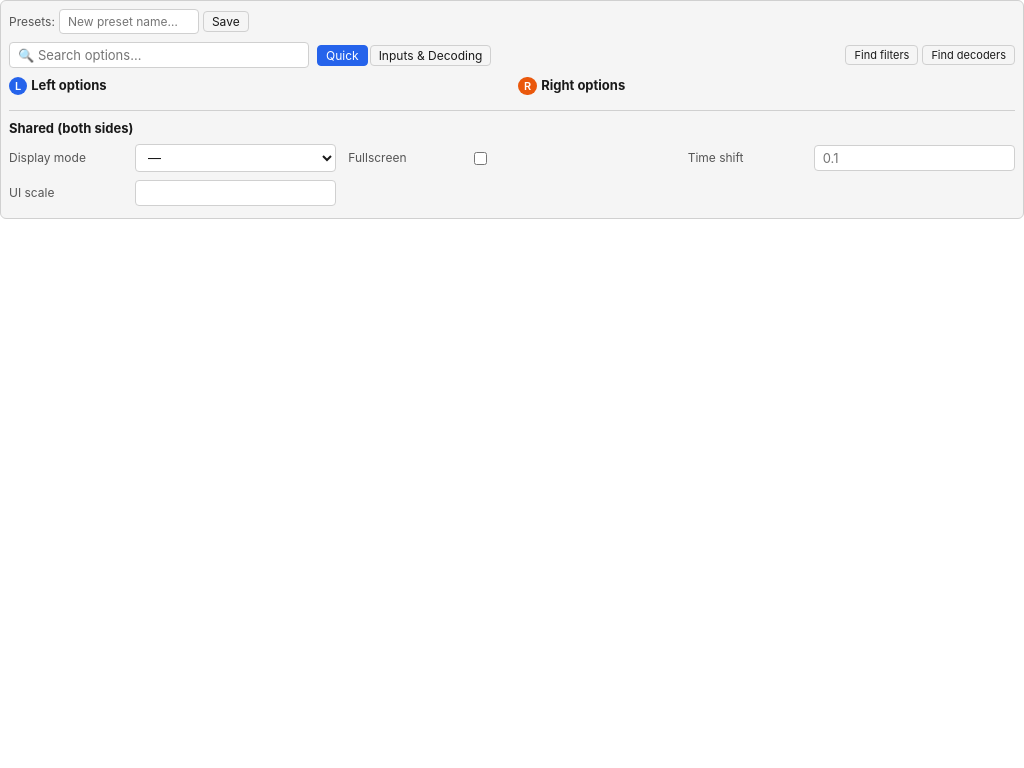
it: OptionsForm › find helper surfaces errors as text
Click the button "Find decoders".
click(969, 55)  # box left=922, top=45, right=1015, bottom=65
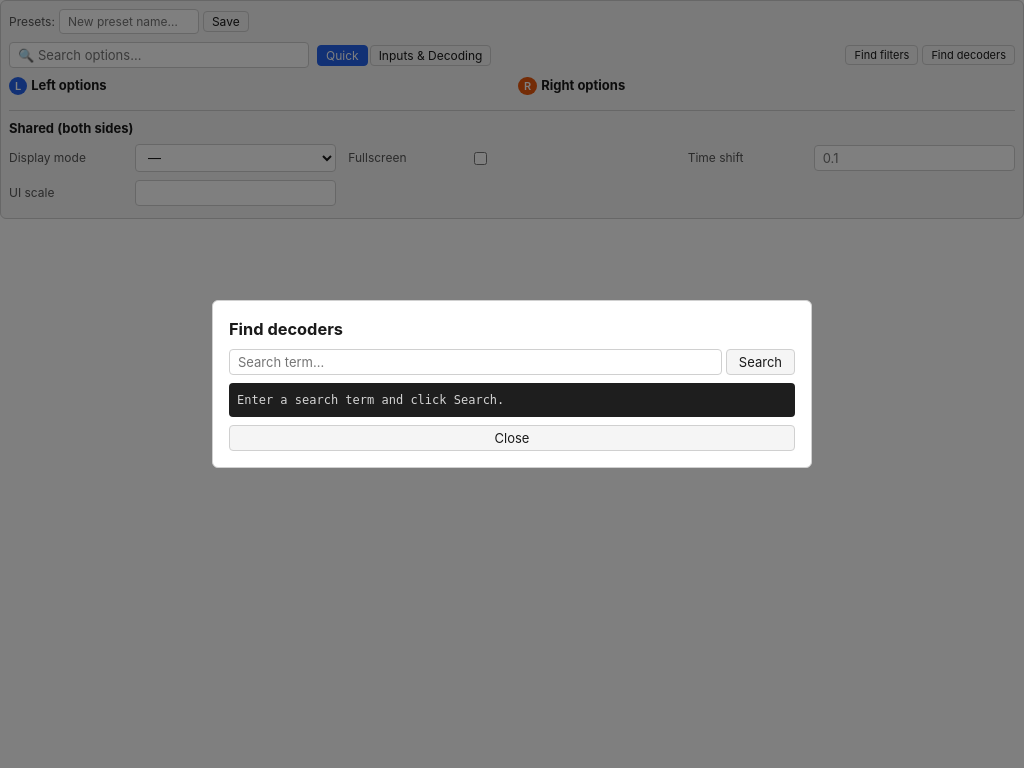
Click the button "Search".
click(760, 362)  # box left=726, top=349, right=795, bottom=375
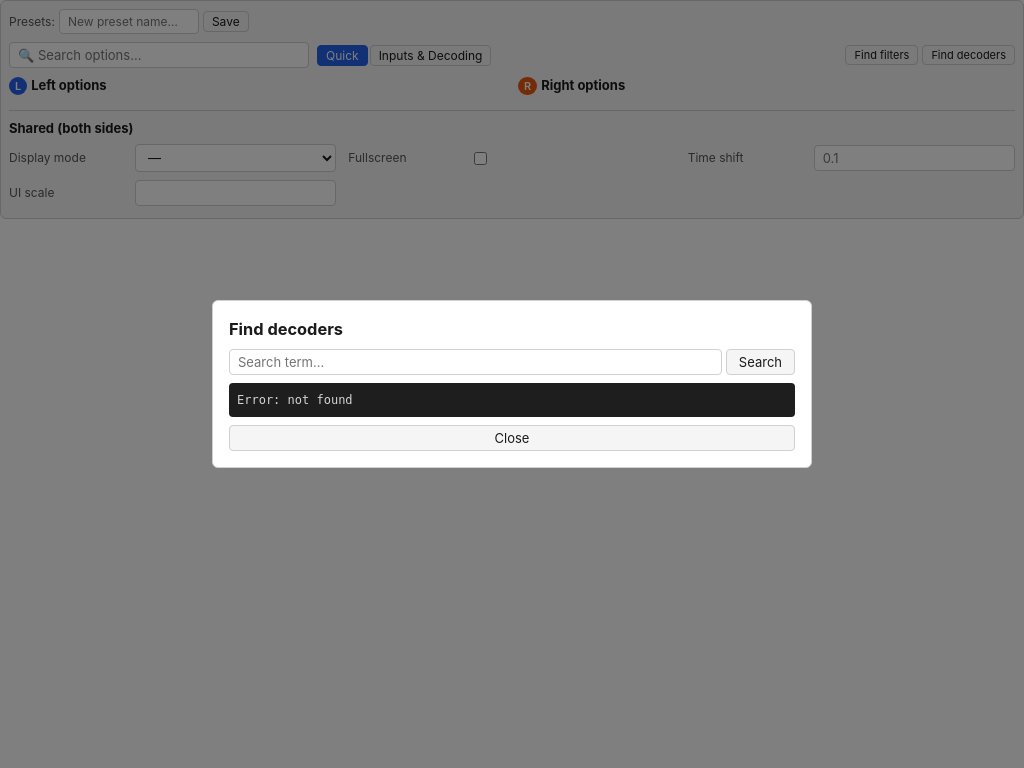
Now the text "Error: not found" is shown, box left=229, top=383, right=795, bottom=417
